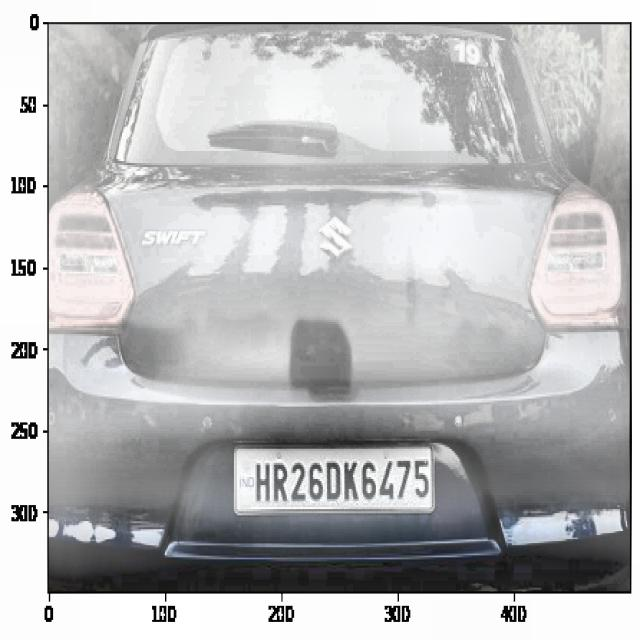license_plate: (245, 449, 432, 509)
